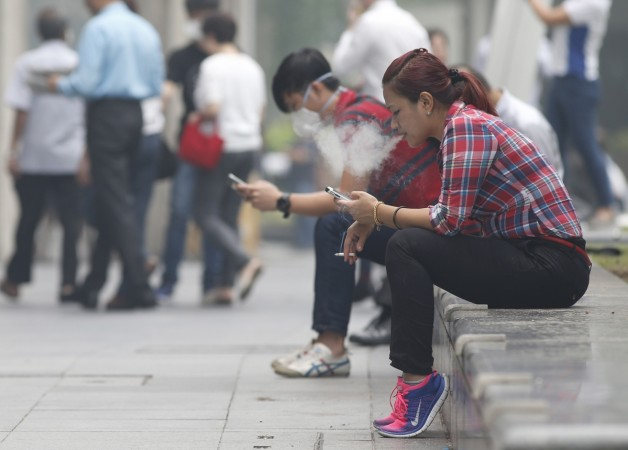ci: (334, 251, 355, 257)
